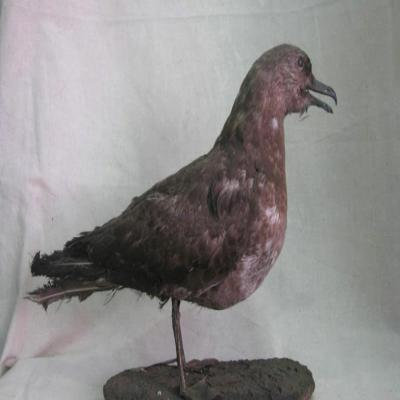natural_science_collection: (24, 45, 338, 400)
